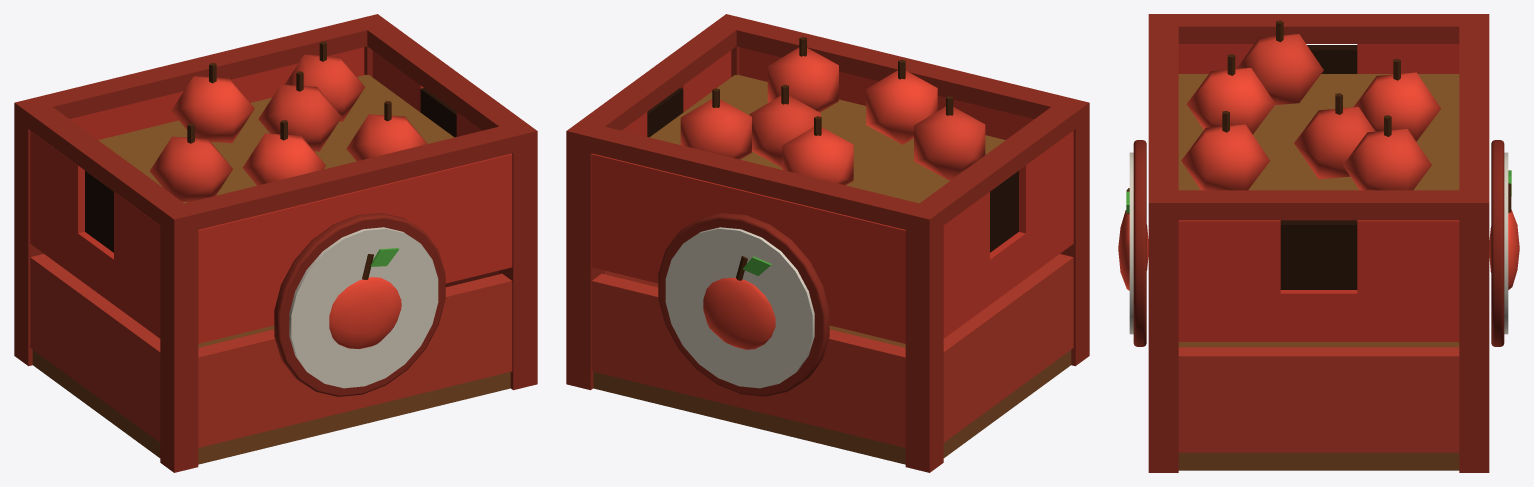
The model's file is crate_apple.glb.
3 renders of one model, left to right at view 1: azimuth 30°, elevation 25°; view 2: azimuth 150°, elevation 25°; view 3: azimuth 270°, elevation 25°, orthographic. The views are drawn at different scales.
Visible parts, largest first — view 1: pv3_crate_apple; view 2: pv3_crate_apple; view 3: pv3_crate_apple.
Part boxes in pixels (box(x1,y1,x2,y2)): pv3_crate_apple: box(14, 14, 537, 472); pv3_crate_apple: box(566, 14, 1089, 472); pv3_crate_apple: box(1118, 14, 1519, 472).
Size of the model in its own units: 0.42 by 0.3169 by 0.3774.
